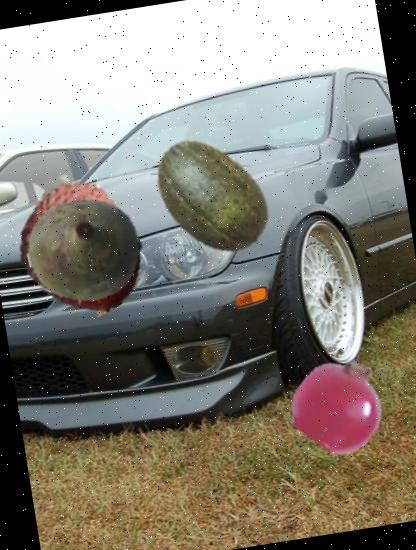Beetroot: (19, 182, 153, 316)
Lychee: (8, 172, 144, 306)
Melon: (134, 123, 286, 274)
Nectarine: (20, 192, 152, 325)
Redcurrant: (289, 351, 394, 456)
